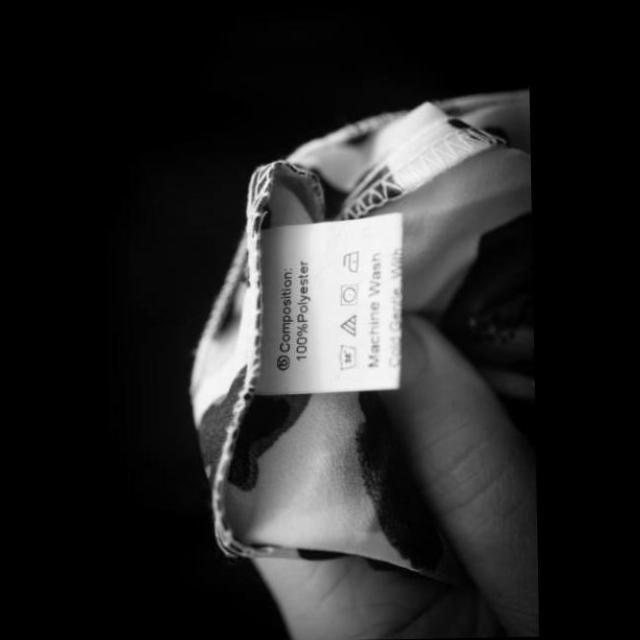30C: (334, 342, 359, 372)
iron_low: (342, 248, 362, 274)
non_chlorine_bleach: (338, 313, 360, 337)
tumble_dry_low: (337, 280, 362, 308)
